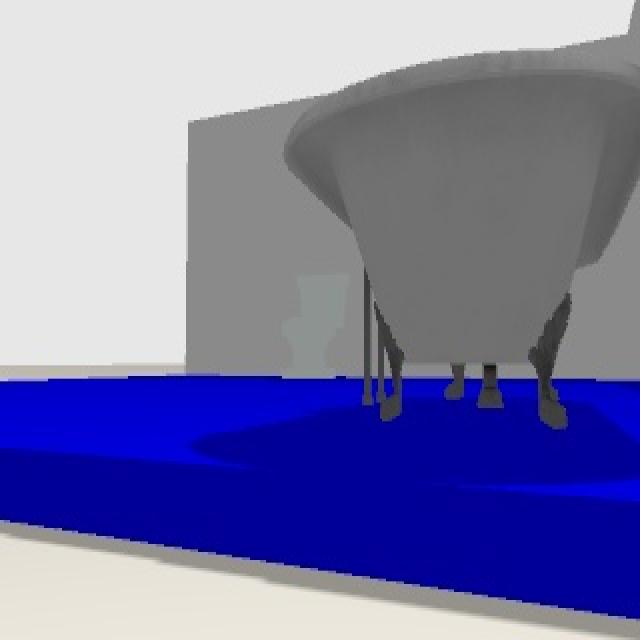bathtub: (280, 48, 638, 432)
